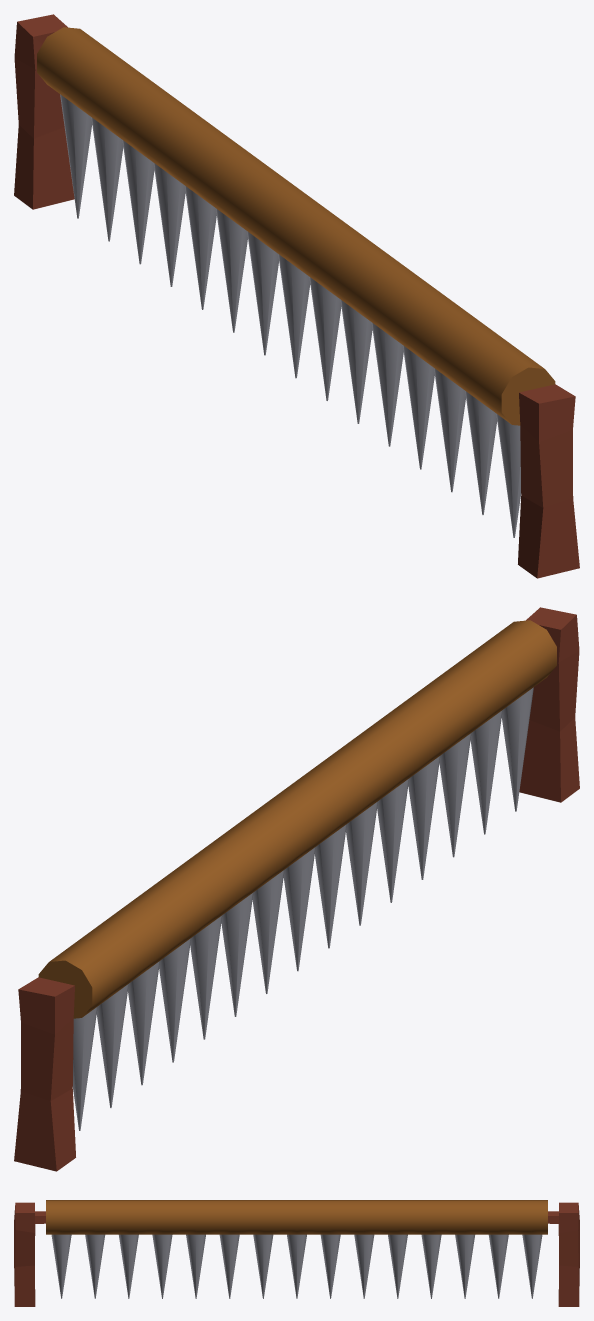
Rendered from spikes.fbx.
The picture shows the model from 3 angles, top to bottom: view 1: azimuth 30°, elevation 25°; view 2: azimuth 150°, elevation 25°; view 3: azimuth 270°, elevation 25°; orthographic projection. The views are drawn at different scales.
Parts seen in each view (by area): view 1: Circle; view 2: Circle; view 3: Circle.
Part boxes in pixels (<box>): Circle: <box>14,14,579,578</box>; Circle: <box>14,607,579,1171</box>; Circle: <box>14,1200,579,1306</box>.
Bounding box in the file's own units: 0.7038 × 2.32 × 11.92.
